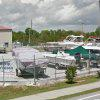Boat: (42, 33, 97, 57)
